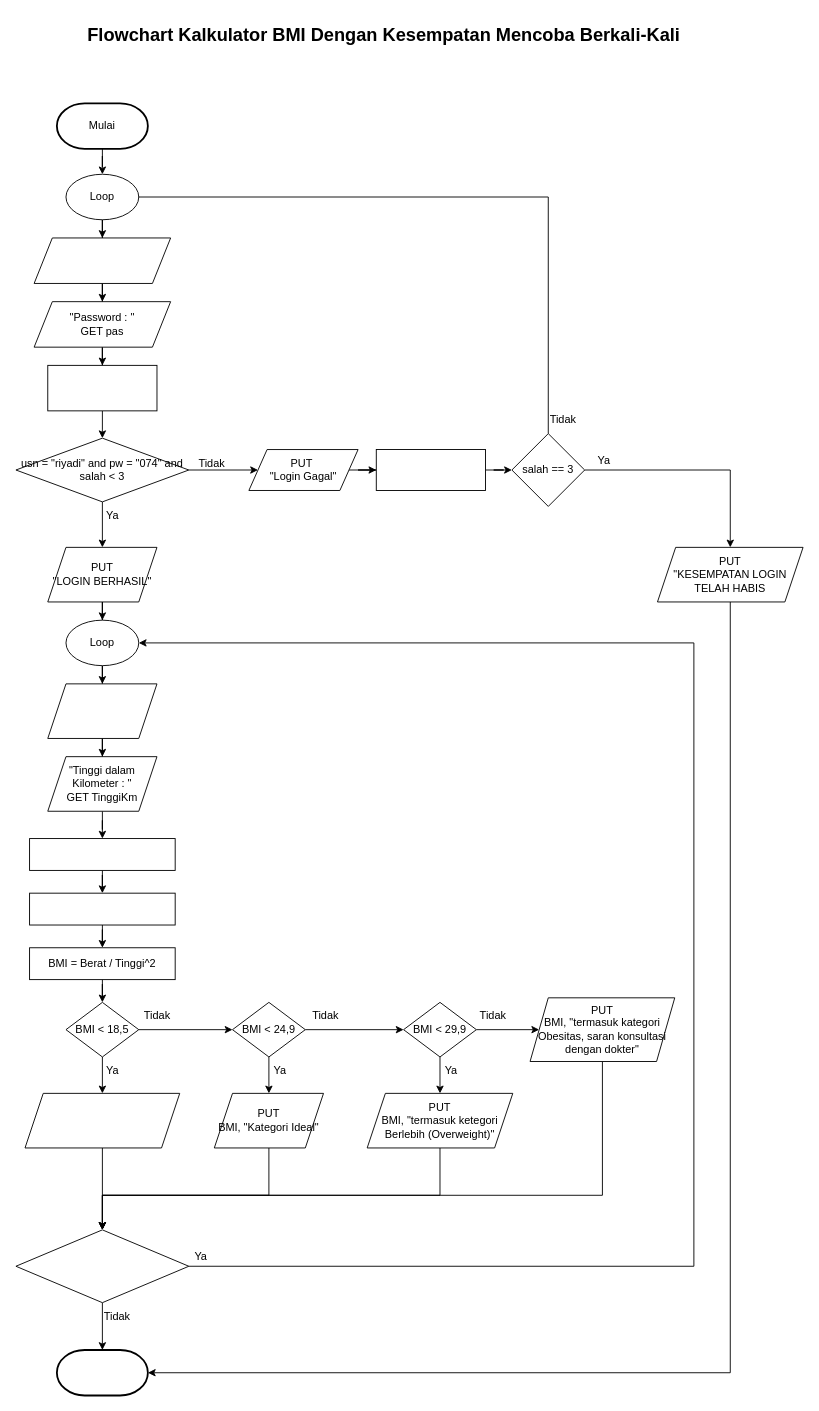
Some shapes in this 819 by 1411 pixel diagram are drawn without their labels. The shapes that lost their labels are listed below. From the top down, each one's centre as x and y in pixels, then its label:
pixel 102 260: "Username : " GET usn
pixel 102 387: salah = 0
pixel 430 469: salah = salah+1
pixel 102 710: "Berat dalam Miligram : " GET BeratMg
pixel 102 854: Berat = BeratMg / 10^6
pixel 102 908: Tinggi = TinggiKm x 10^3
pixel 102 1120: PUT BMI, "termasuk kategori Kurang (Underweight)"
pixel 102 1266: "Apakah ingin melakukan perhitungan BMI lagi?"
pixel 102 1372: Selesai
